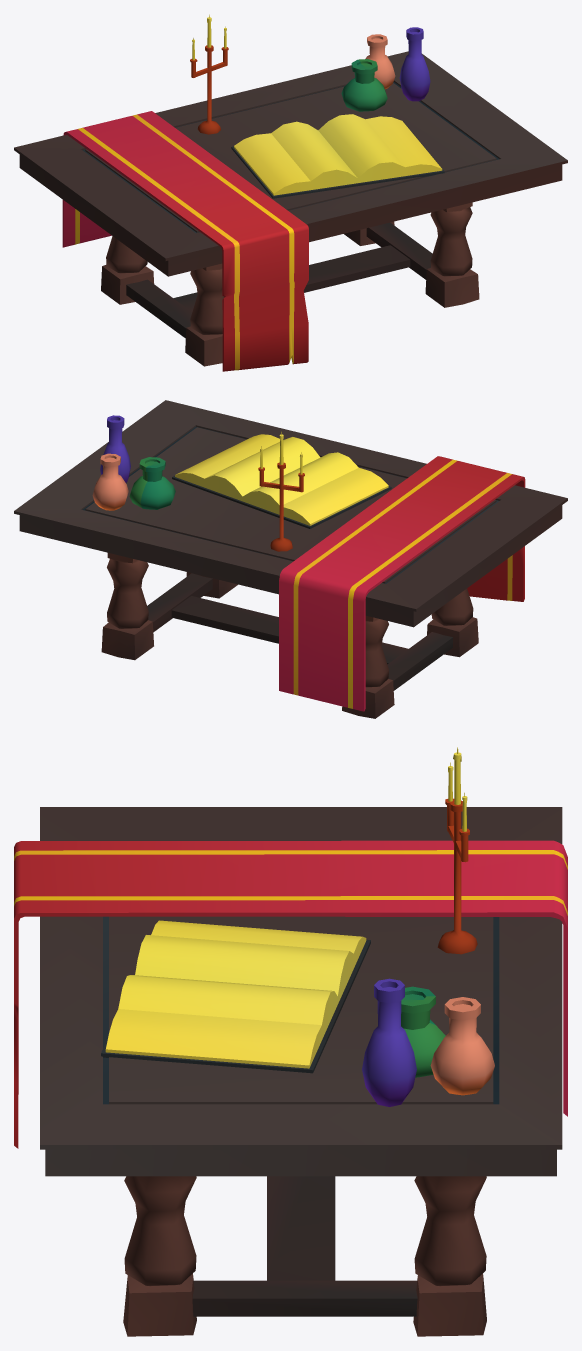
The model's file is Mesa.fbx.
3 renders of one model, top to bottom at view 1: azimuth 30°, elevation 25°; view 2: azimuth 150°, elevation 25°; view 3: azimuth 270°, elevation 25°, orthographic. The views are drawn at different scales.
Parts seen in each view (by area): view 1: Table, Cloth, Book, PotePequeno, PoteGrande, Chandelier, PoteMedio; view 2: Table, Cloth, Book, PotePequeno, PoteMedio, Chandelier, PoteGrande; view 3: Table, Cloth, Book, PoteGrande, PoteMedio, Chandelier, PotePequeno.
Part boxes in pixels (left/top/right/bottom): Table: left=14, top=51, right=567, bottom=366; Cloth: left=62, top=111, right=308, bottom=371; Book: left=231, top=114, right=444, bottom=198; PotePequeno: left=341, top=59, right=387, bottom=111; PoteGrande: left=399, top=27, right=430, bottom=101; Chandelier: left=190, top=14, right=228, bottom=134; PoteMedio: left=365, top=34, right=395, bottom=89; Table: left=14, top=400, right=567, bottom=718; Cloth: left=279, top=456, right=525, bottom=711; Book: left=172, top=434, right=391, bottom=528; PotePequeno: left=129, top=457, right=175, bottom=509; PoteMedio: left=92, top=453, right=128, bottom=510; Chandelier: left=258, top=431, right=304, bottom=551; PoteGrande: left=100, top=415, right=130, bottom=482; Table: left=40, top=807, right=562, bottom=1336; Cloth: left=14, top=840, right=567, bottom=1148; Book: left=101, top=920, right=370, bottom=1073; PoteGrande: left=362, top=978, right=416, bottom=1106; PoteMedio: left=430, top=997, right=494, bottom=1095; Chandelier: left=437, top=747, right=477, bottom=954; PotePequeno: left=401, top=986, right=445, bottom=1077.
Bounding box in the file's own units: 3.57 × 2.18 × 2.47.
